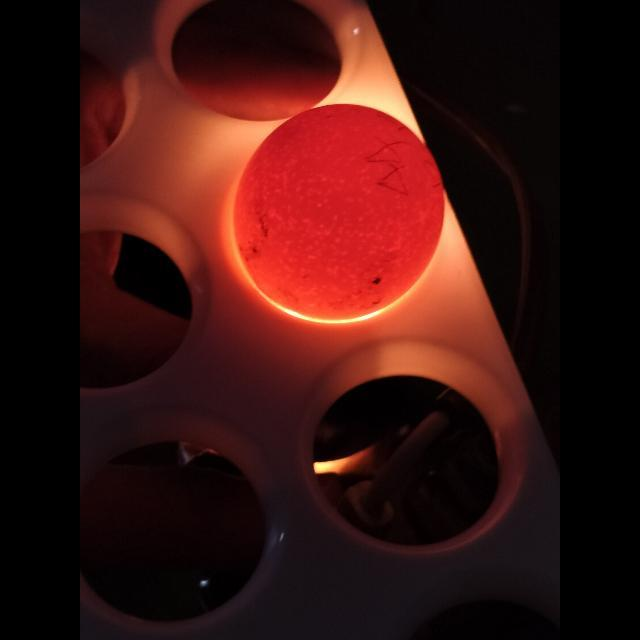Infertile: (234, 102, 442, 314)
